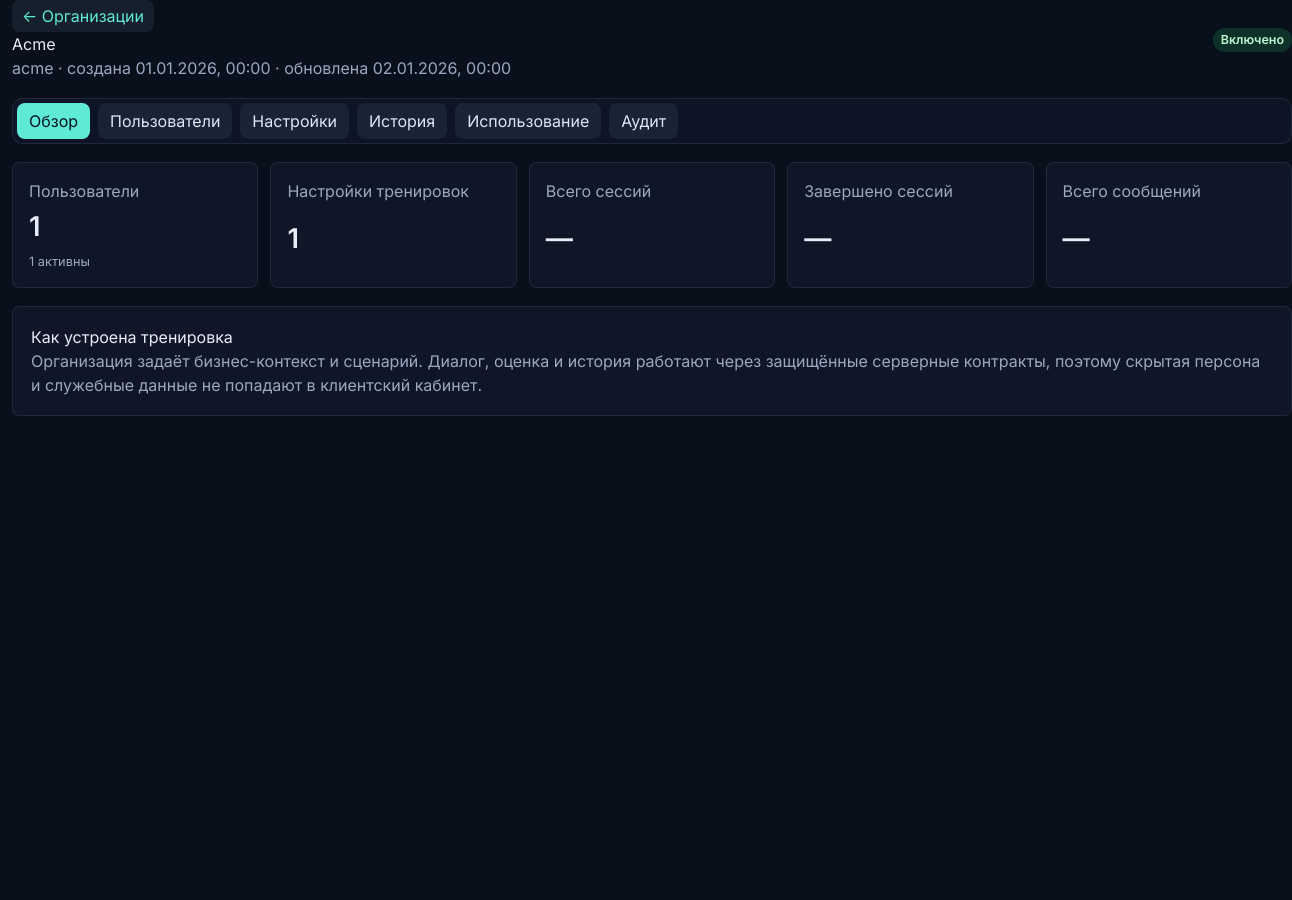
Test case: OrganizationDetailPage training configs › renders dash when user has no default training config
The image size is (1292, 900).
Click the button "Пользователи" at (165, 121), box x1=98 y1=103 x2=232 y2=139
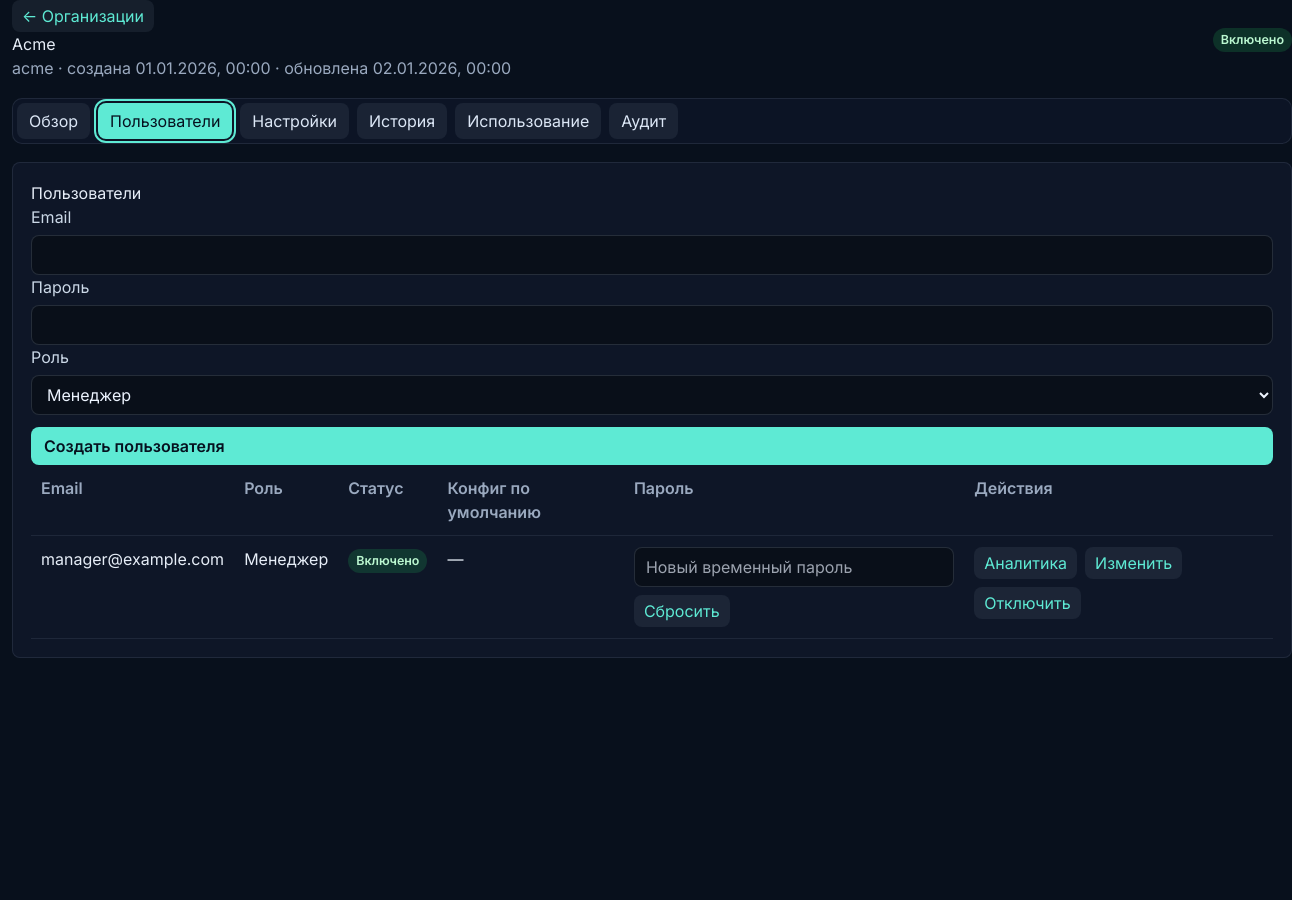
Check: the table shows "—", box x1=448 y1=549 x2=464 y2=569
